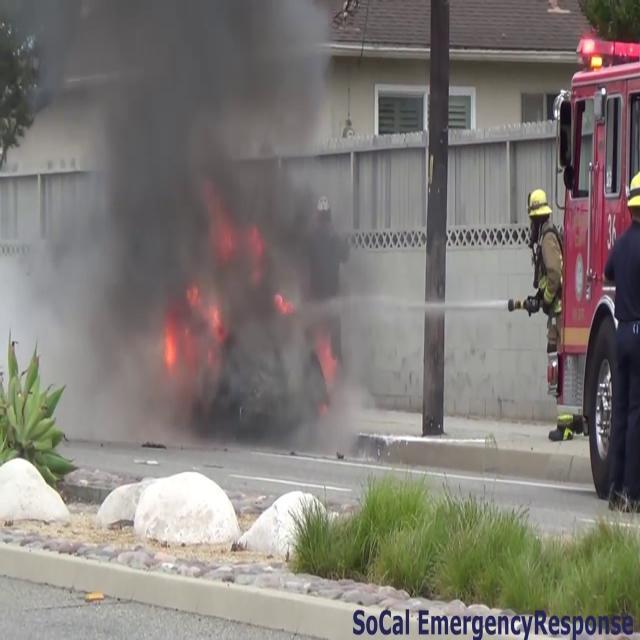Smoke: (21, 0, 360, 444)
